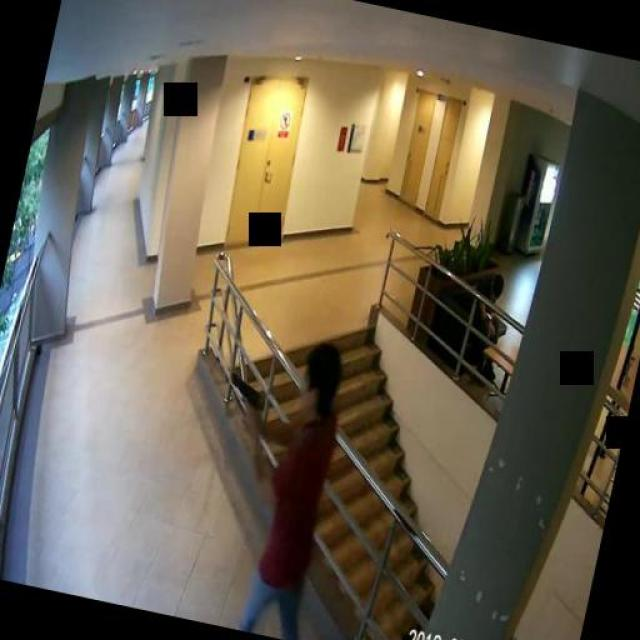gun: (218, 372, 262, 428)
